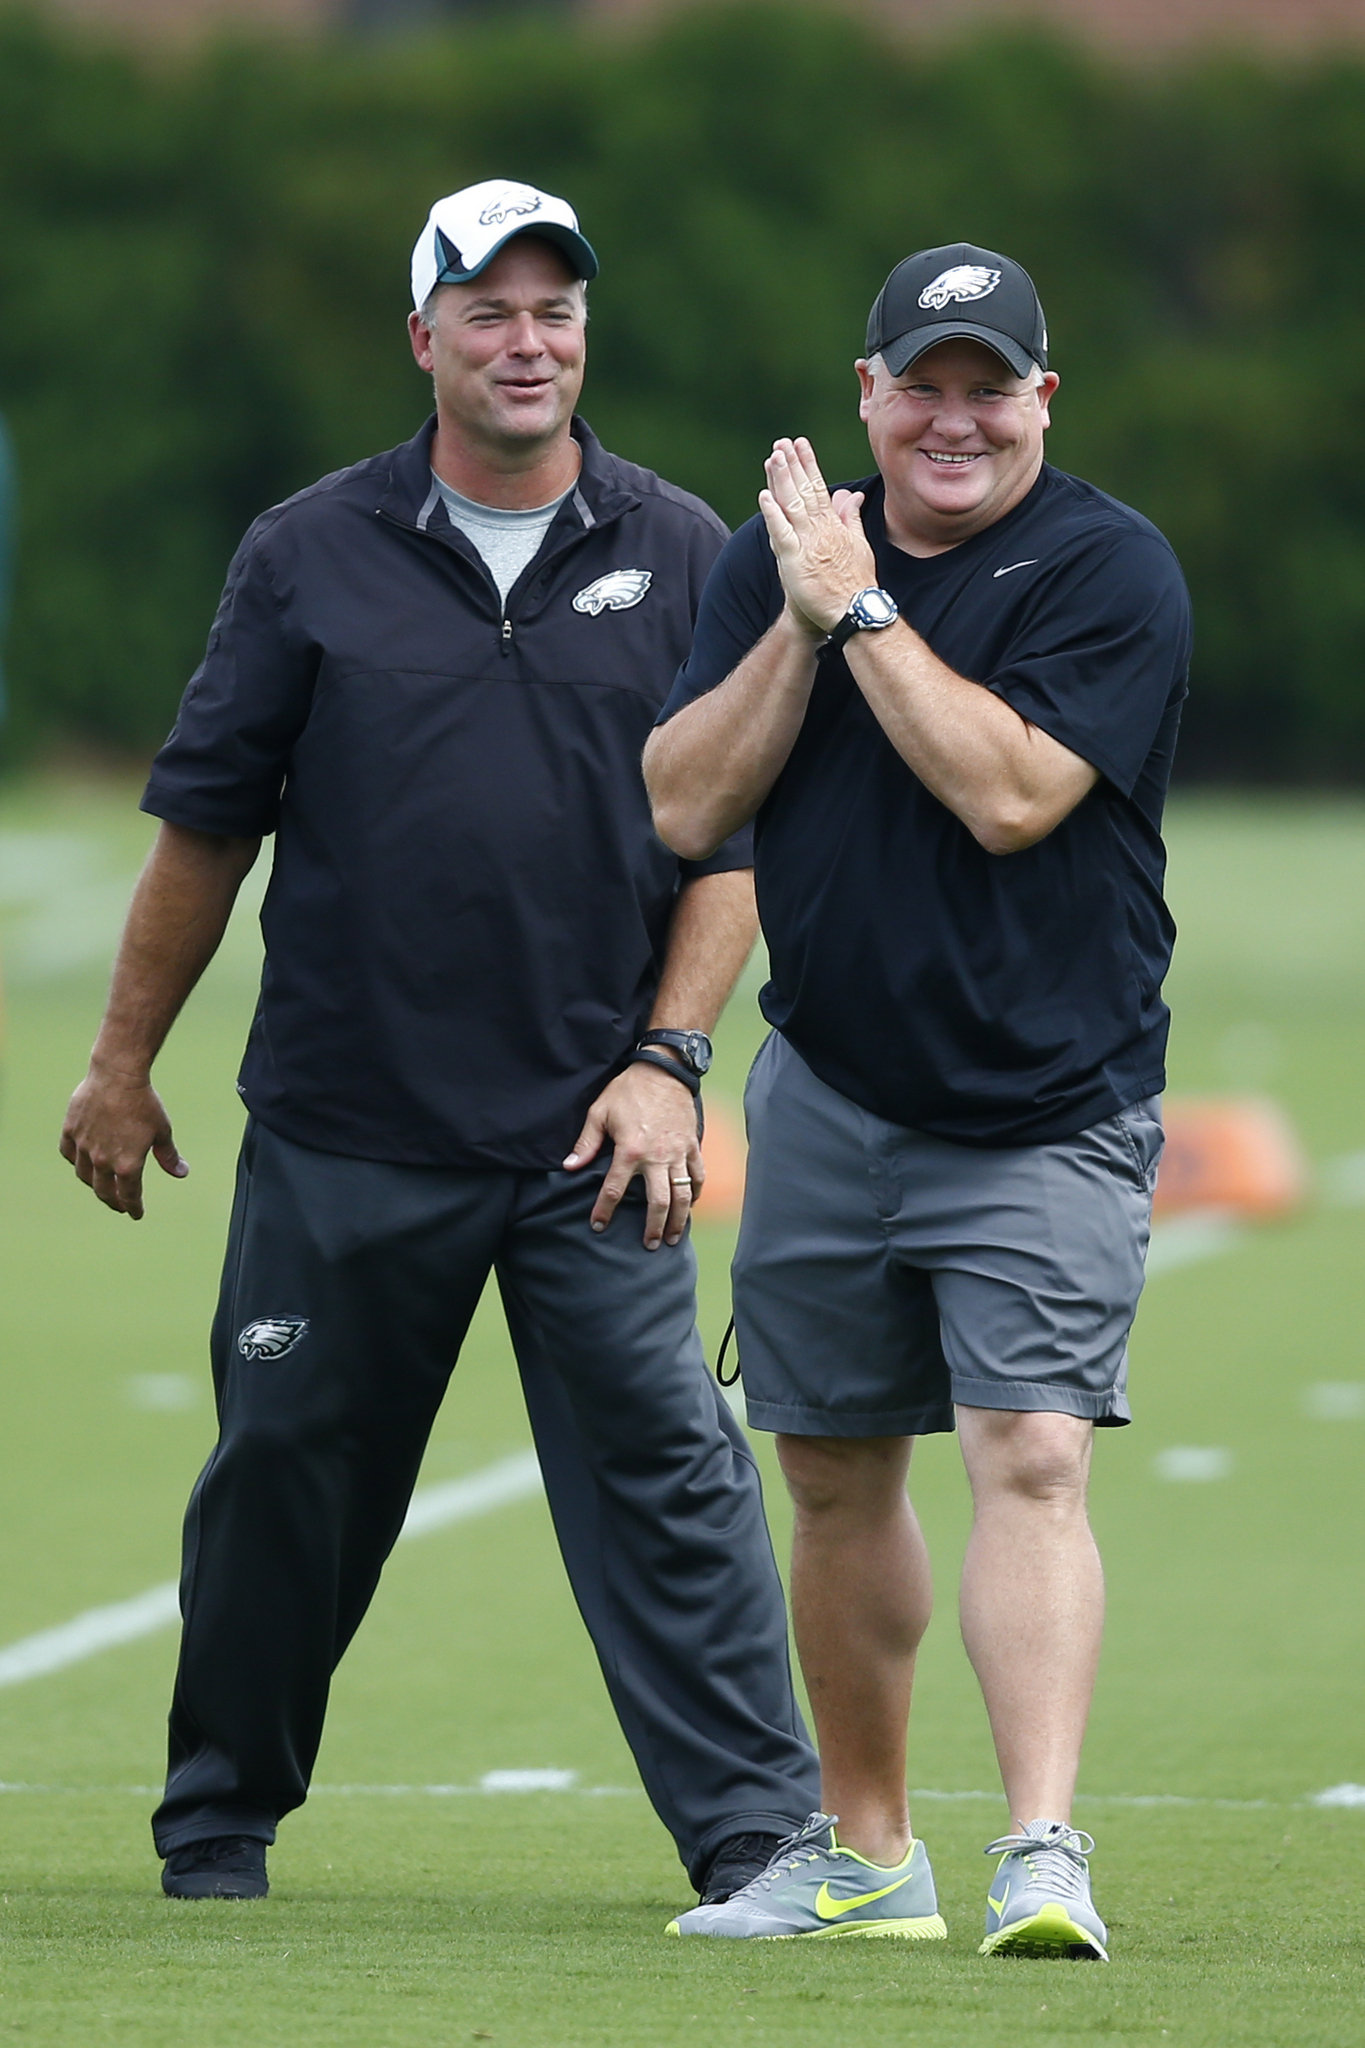Person: (60, 176, 740, 1905), (691, 245, 1189, 1967)
